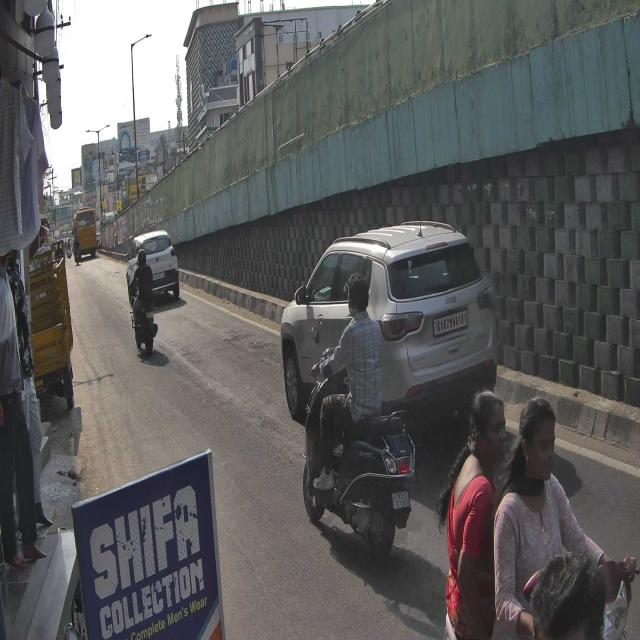double_rider: (440, 379, 640, 640)
single_rider: (302, 271, 418, 557)
